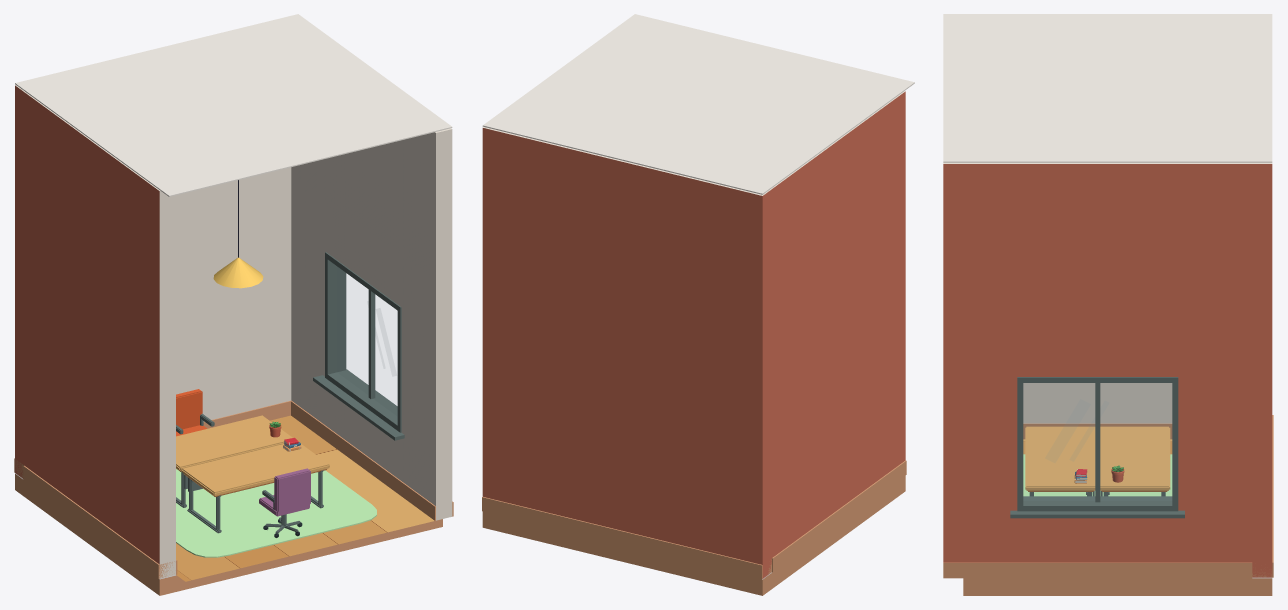
The model's file is ala_1.glb.
3 renders of one model, left to right at view 1: azimuth 30°, elevation 25°; view 2: azimuth 150°, elevation 25°; view 3: azimuth 270°, elevation 25°, orthographic. The views are drawn at different scales.
Parts seen in each view (by area): view 1: Ala_1, desk-18, desk-17, desk-18__chair, desk-17__chair; view 2: Ala_1; view 3: Ala_1, desk-17, desk-18.
Part boxes in pixels (x1,y1,x2,y2): Ala_1: (14, 14, 453, 595); desk-18: (181, 444, 329, 533); desk-17: (176, 415, 292, 507); desk-18__chair: (259, 468, 310, 537); desk-17__chair: (176, 389, 214, 436); Ala_1: (482, 14, 914, 595); Ala_1: (943, 14, 1273, 595); desk-17: (1100, 426, 1170, 496); desk-18: (1025, 426, 1095, 496).
Size of the model in its own units: 5.36 by 7.14 by 4.92.
Materials: 27 (2 with a texture image).
